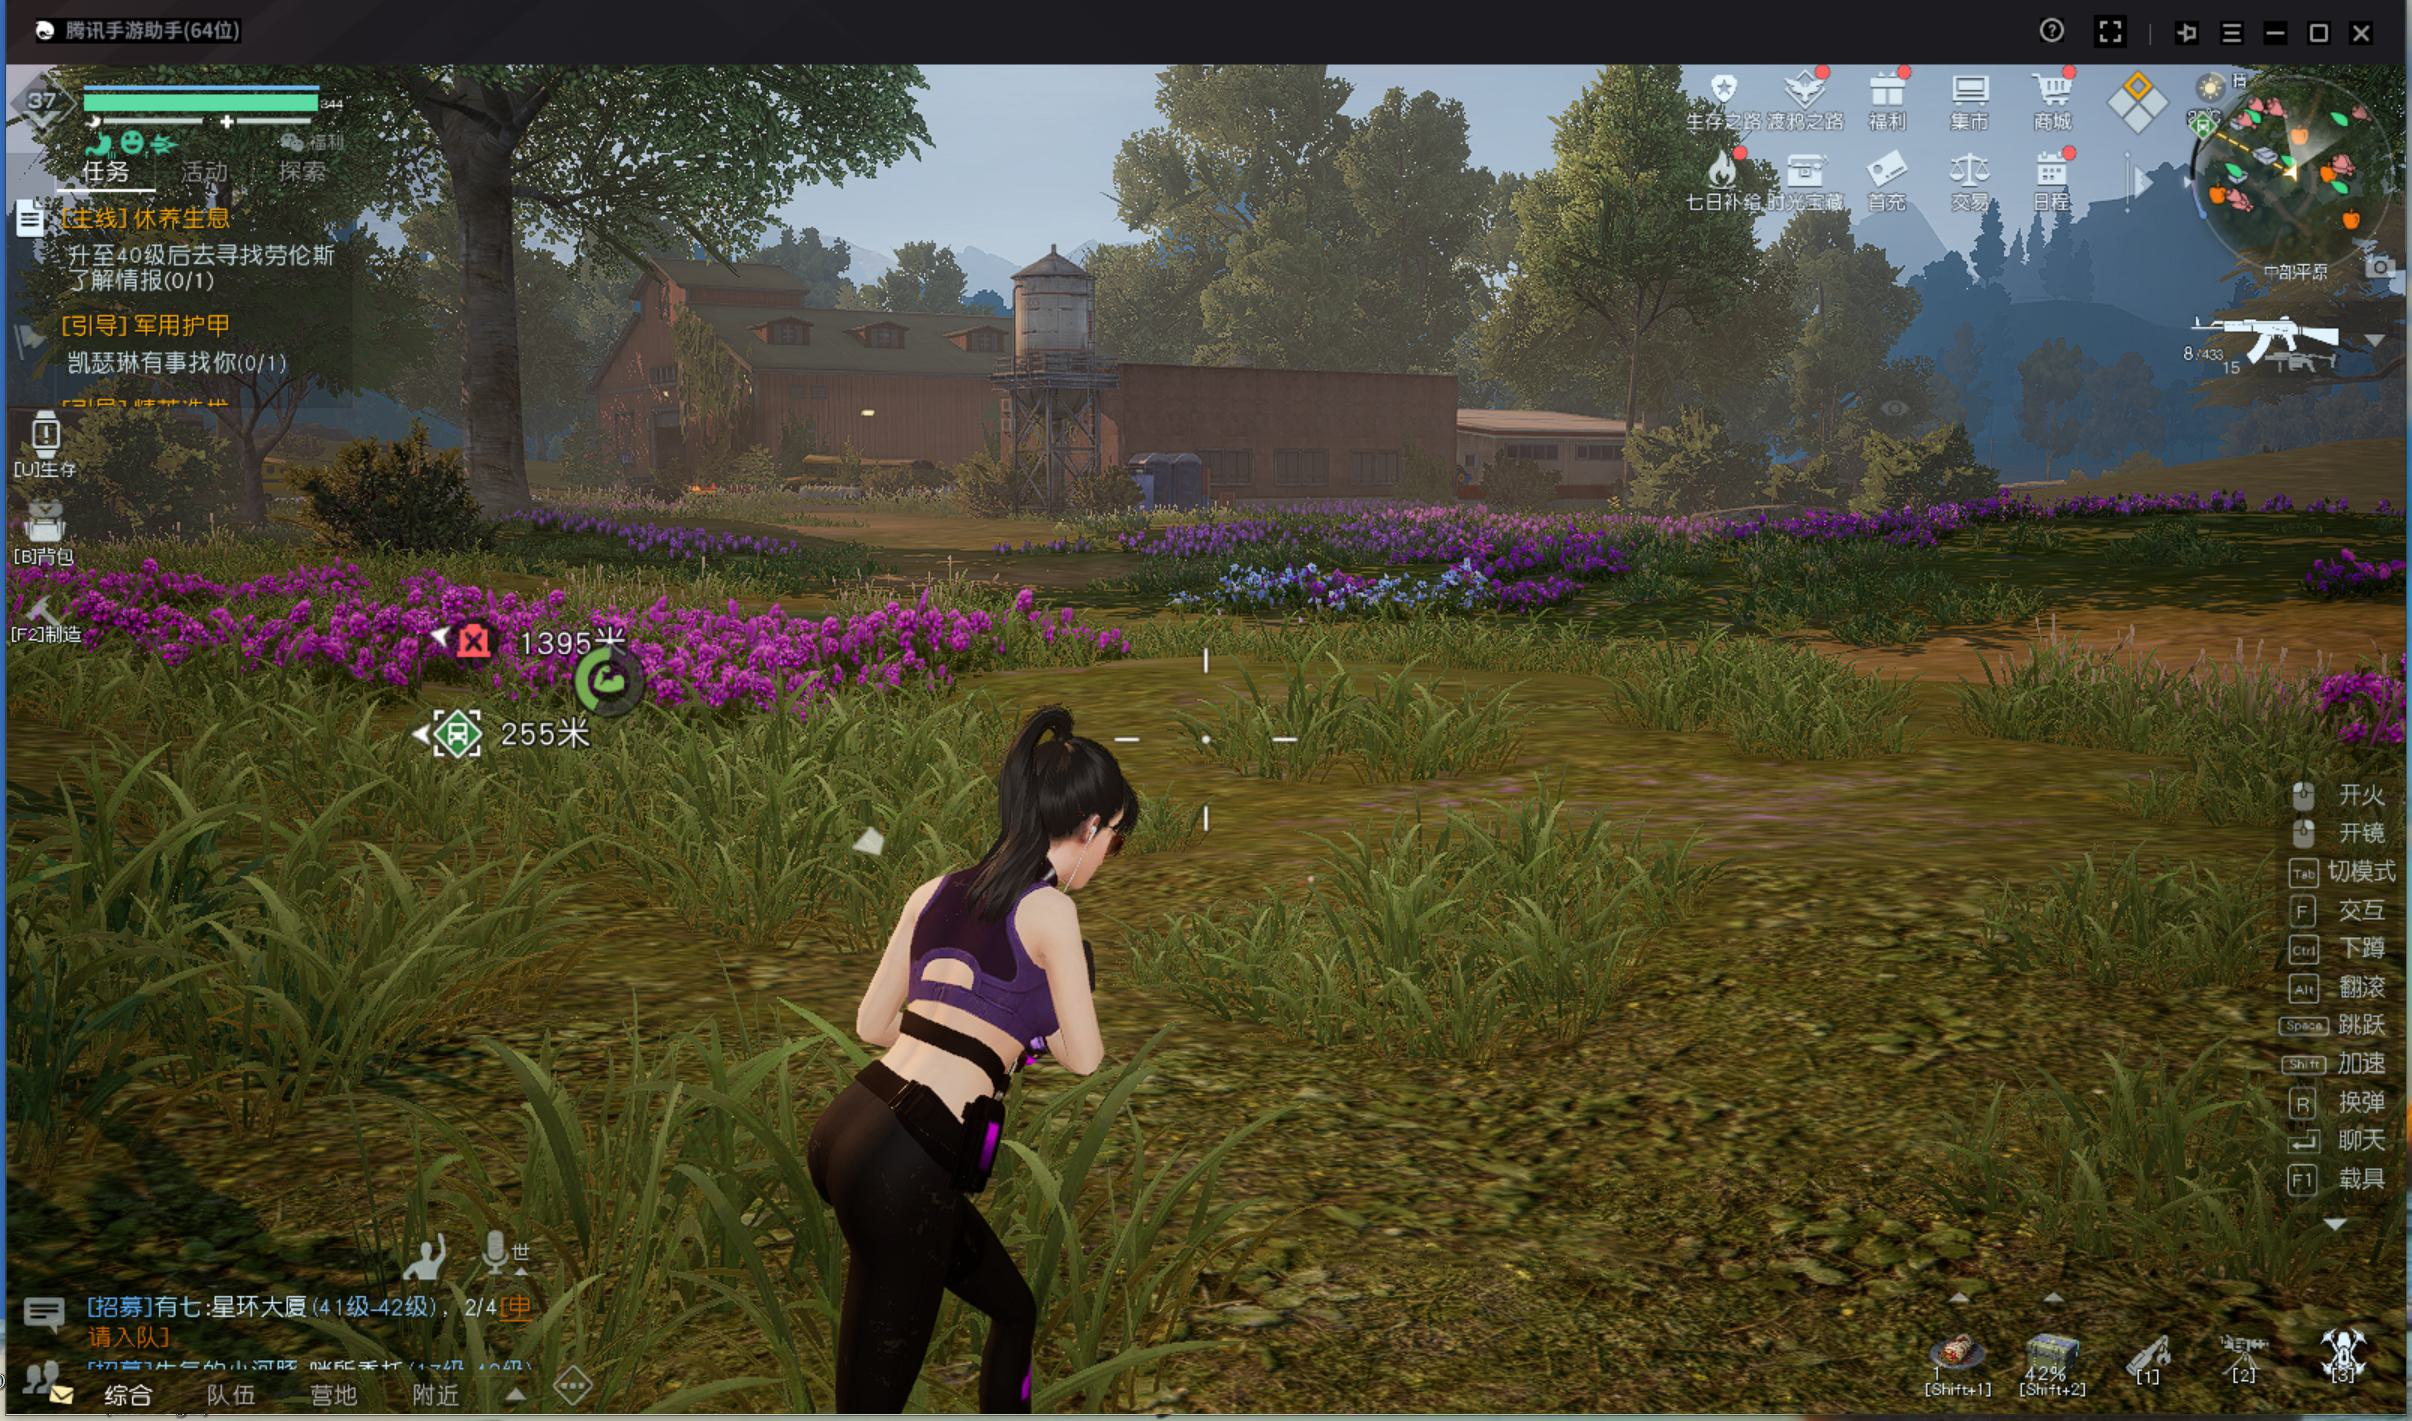tree: (436, 188, 531, 563)
